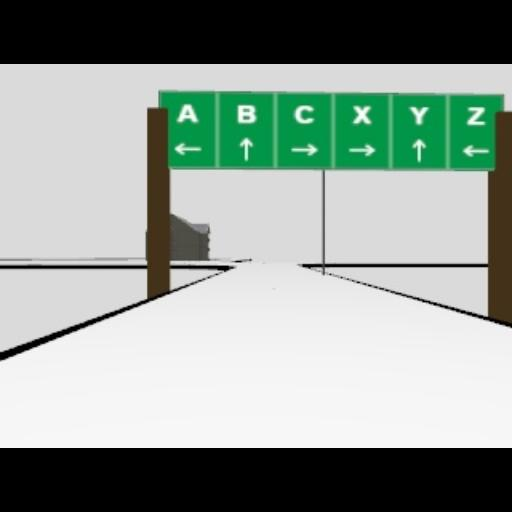A: (176, 102, 198, 124)
B: (236, 104, 256, 124)
C: (294, 104, 314, 124)
Left: (172, 142, 202, 156), (460, 144, 490, 156)
Right: (290, 142, 318, 156), (348, 144, 376, 156)
Straight: (239, 136, 253, 160), (411, 138, 425, 162)
X: (352, 104, 372, 124)
Y: (408, 104, 428, 124)
Z: (466, 106, 486, 124)
